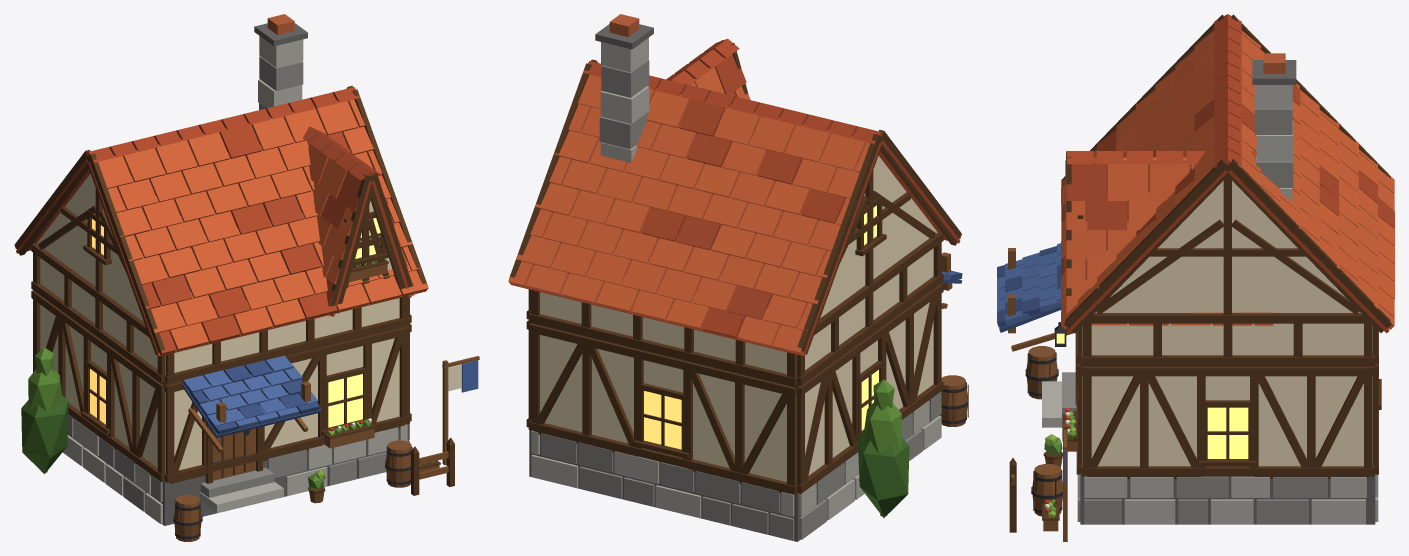
File: Cottage_08_BluePorch.fbx
3 views of the same model, side by side, from view 1: azimuth 30°, elevation 25°; view 2: azimuth 150°, elevation 25°; view 3: azimuth 270°, elevation 25° (orthographic). The views are drawn at different scales.
Parts seen in each view (by area): view 1: Cottage_08_BluePorch_LOD0; view 2: Cottage_08_BluePorch_LOD0; view 3: Cottage_08_BluePorch_LOD0.
Part boxes in pixels (<box>): Cottage_08_BluePorch_LOD0: <box>14,14,479,541</box>; Cottage_08_BluePorch_LOD0: <box>508,14,968,541</box>; Cottage_08_BluePorch_LOD0: <box>997,14,1394,541</box>.
Size of what is drawn, in the model's own units: 8.15 by 8.49 by 6.85.
